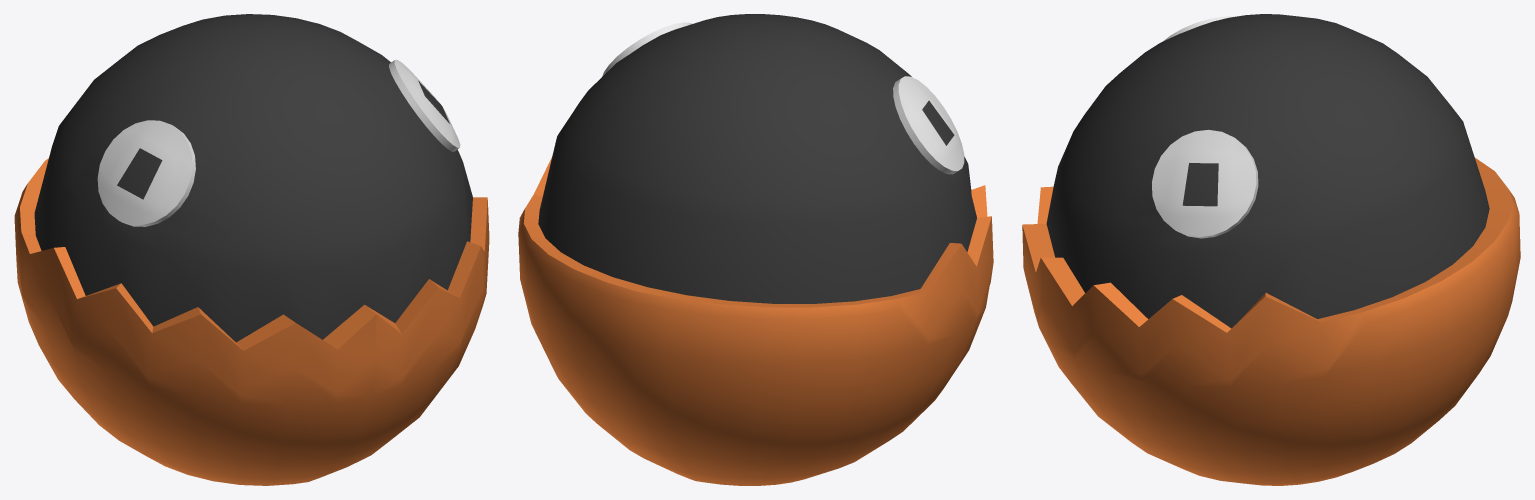
Rendered from BOB_ 1.fbx.
The picture shows the model from 3 angles, left to right: view 1: azimuth 30°, elevation 25°; view 2: azimuth 150°, elevation 25°; view 3: azimuth 270°, elevation 25°; orthographic projection.
Visible parts, largest first — view 1: Sphere; view 2: Sphere; view 3: Sphere.
Boxes of the visible parts, box(x1,y1,x2,y2) form: Sphere: box(14, 14, 489, 485); Sphere: box(518, 14, 993, 485); Sphere: box(1022, 14, 1520, 485).
Size of the model in its own units: 212 by 212 by 221.
